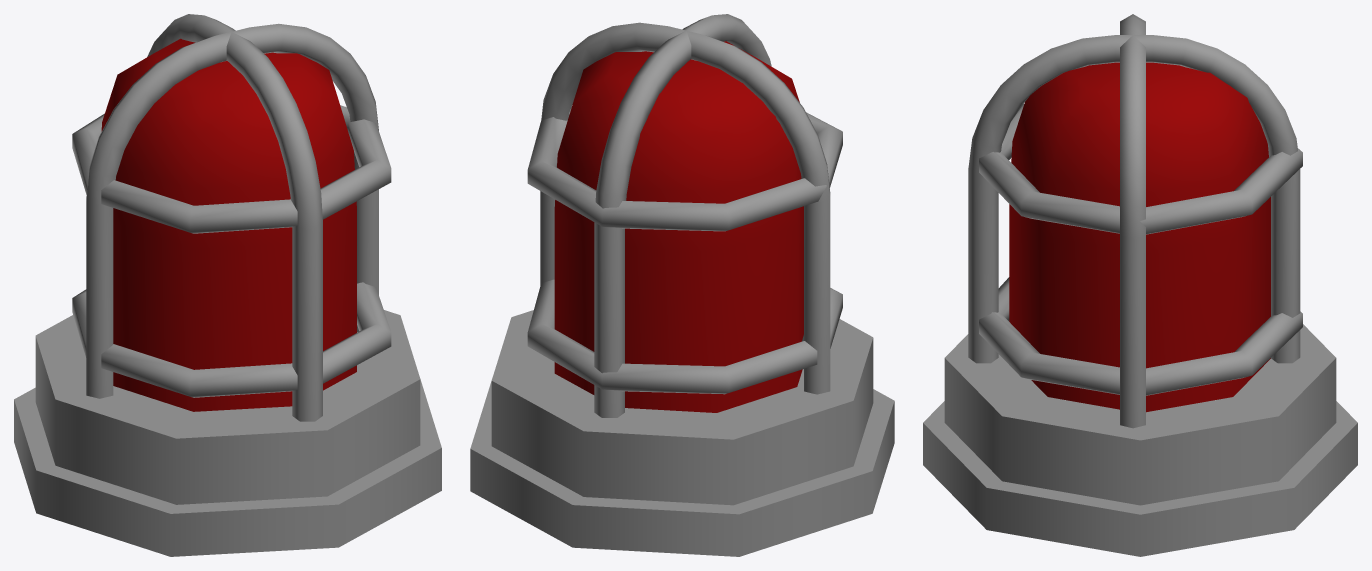
Rendered from M_prop_lamp_round_small.FBX.
The picture shows the model from 3 angles, left to right: view 1: azimuth 30°, elevation 25°; view 2: azimuth 150°, elevation 25°; view 3: azimuth 270°, elevation 25°; orthographic projection.
Parts seen in each view (by area): view 1: M_prop_lamp_round_small; view 2: M_prop_lamp_round_small; view 3: M_prop_lamp_round_small.
Boxes of the visible parts, <box> form: M_prop_lamp_round_small: <box>14,14,441,556</box>; M_prop_lamp_round_small: <box>470,14,894,556</box>; M_prop_lamp_round_small: <box>923,14,1357,556</box>.
Size of the model in its own units: 43.04 by 43.04 by 46.93.
